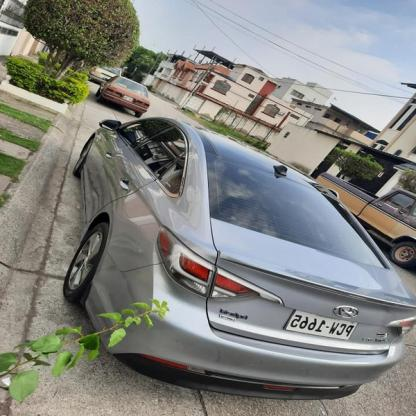Placa: (276, 306, 361, 342)
